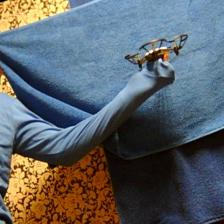drone: (126, 33, 188, 70)
